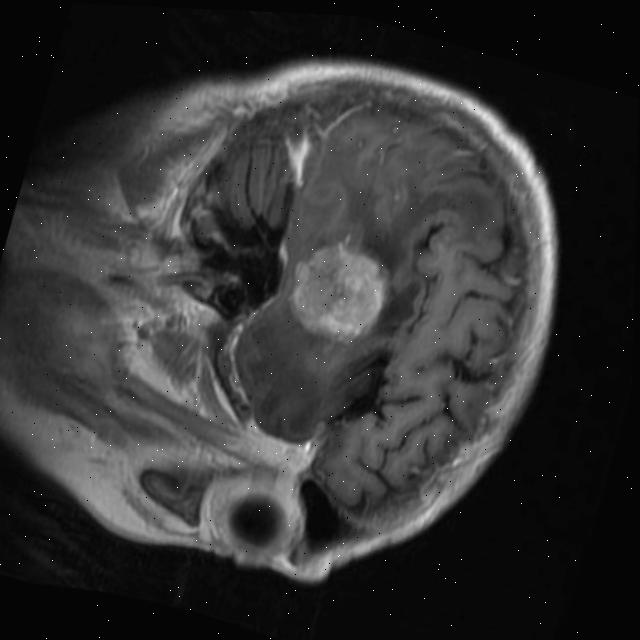Meningioma: (278, 226, 400, 354)
